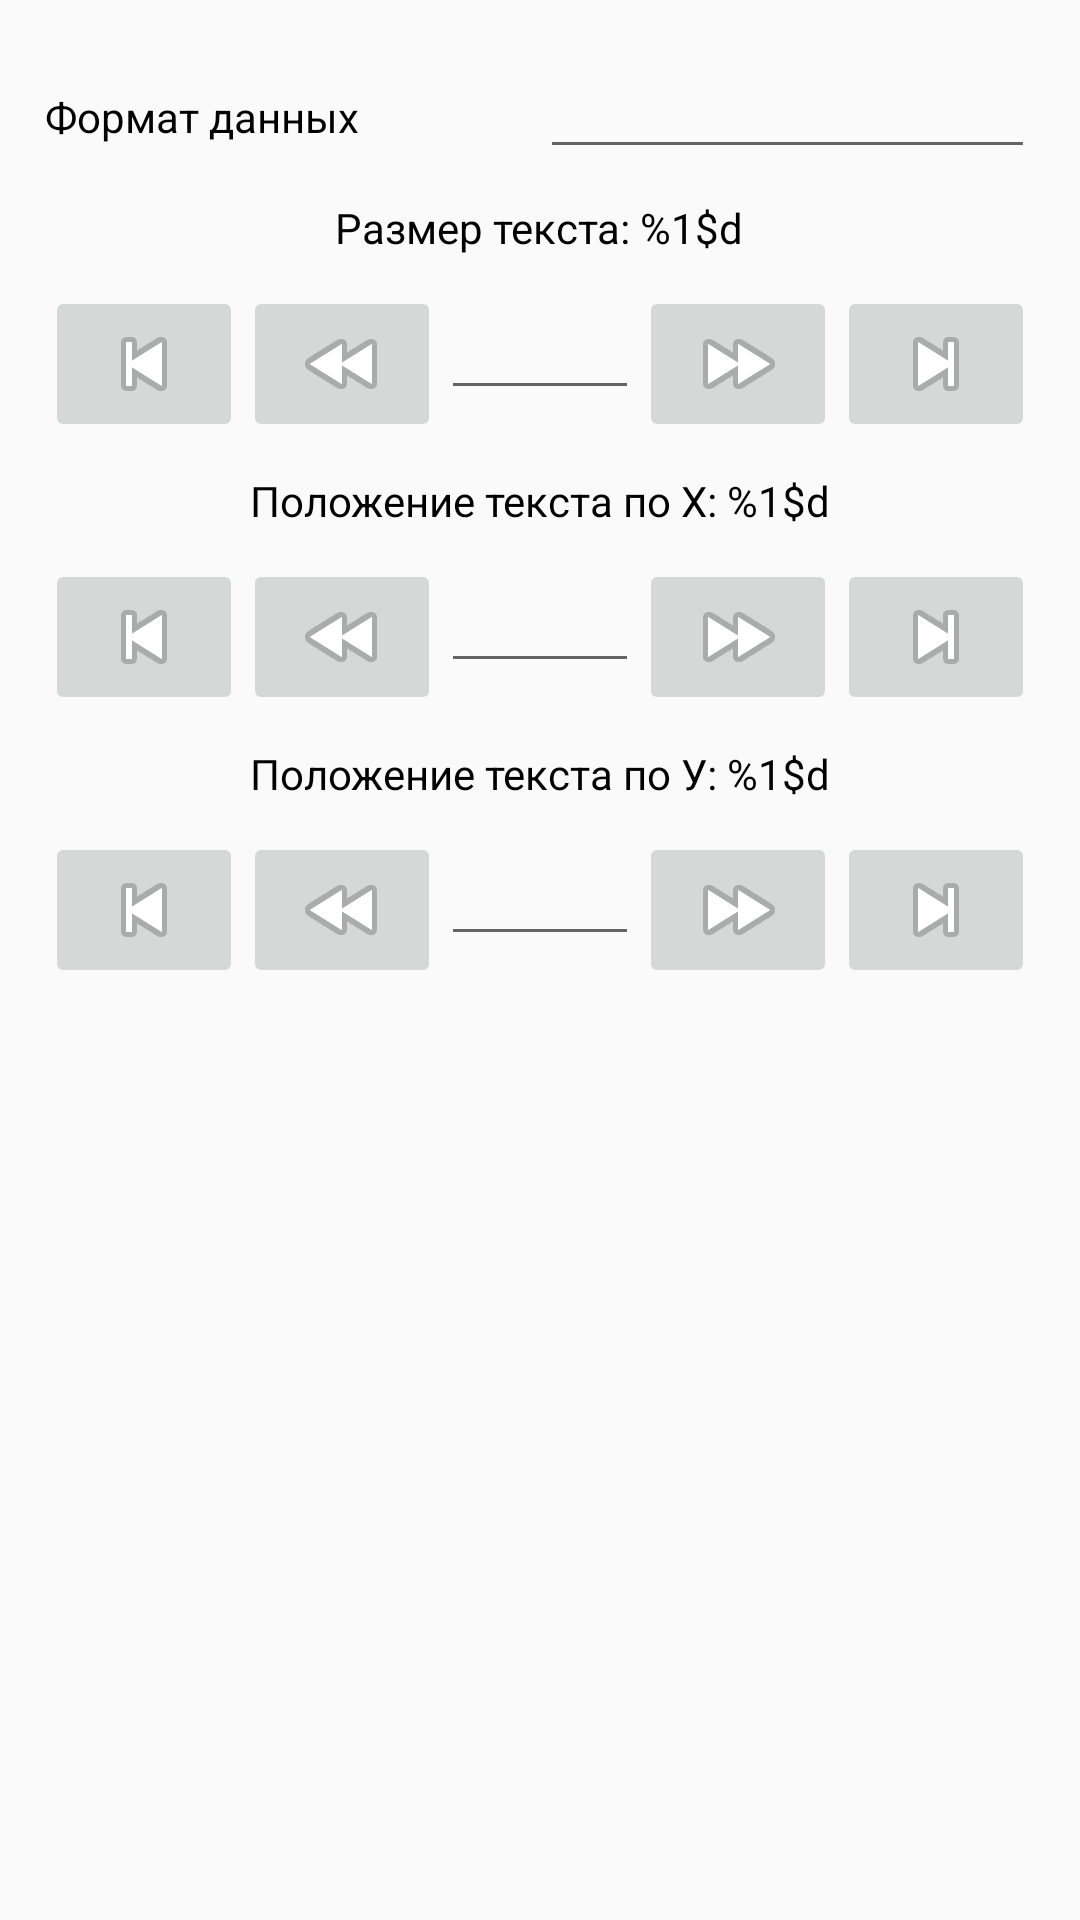

Icons on this 1080*1920 Android screen, each with the point to tap as (x=x, y=y):
next: (x=936, y=364), (x=936, y=637), (x=936, y=910)
previous: (x=144, y=364), (x=144, y=637), (x=144, y=910)
rew: (x=342, y=364), (x=342, y=637), (x=342, y=910)
